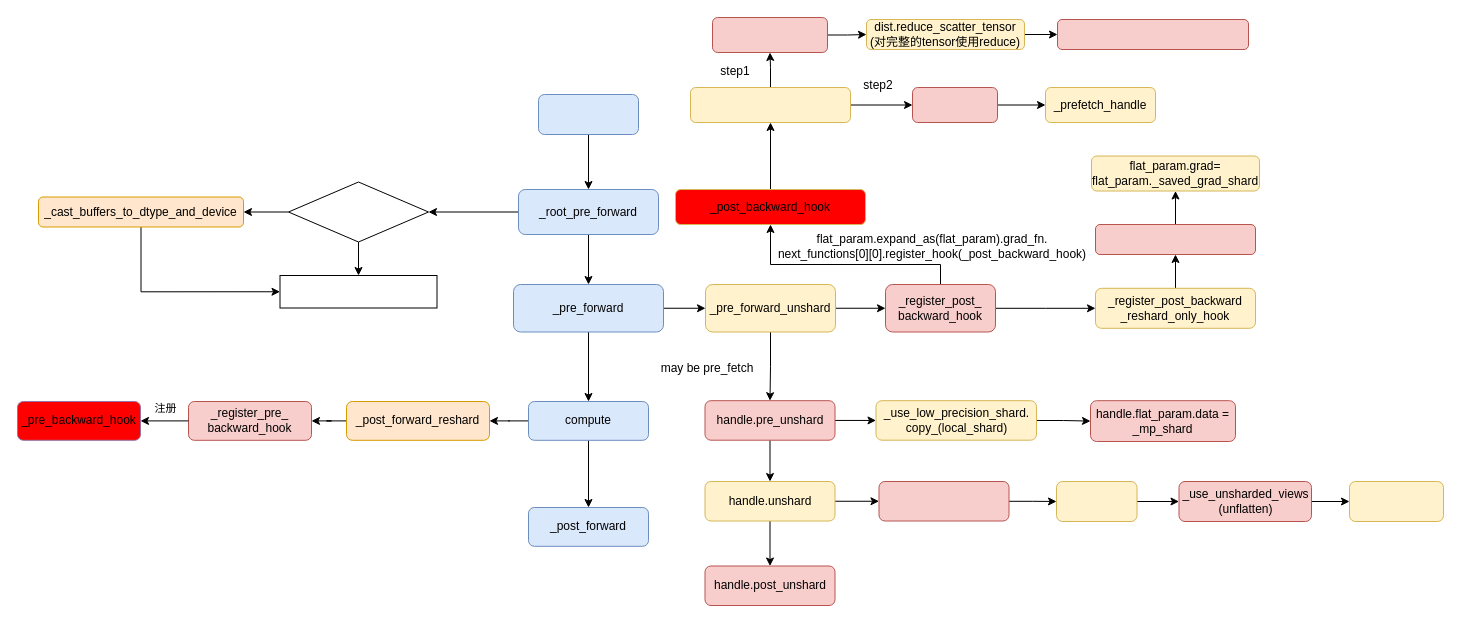
The diagram is 1461 pixels wide and 623 high, and some of its shapes have lost their labels. The box of each missing label's shape, as (x1, y1, x2, y2) in pixels:
_post_backward_reshard: (690, 86, 850, 122)
_reduce_grad: (712, 16, 828, 52)
_root_cast_forward_input: (279, 274, 437, 308)
all_gather: (1056, 480, 1137, 522)
alloca_unsharded_ _flat_param: (878, 480, 1009, 521)
eval is full precision?: (288, 181, 428, 242)
flat_param._saved_grad_shard = sharded_grad: (1056, 18, 1248, 50)
free_mp_shard: (1348, 480, 1444, 522)
FSDP:forward: (538, 94, 638, 134)
prepare_gradient_for_optim: (1094, 224, 1256, 254)
reshard: (912, 86, 998, 122)
